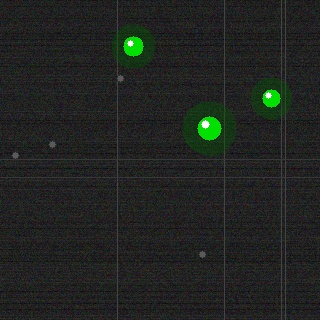green_normal: (195, 114, 223, 142), (121, 34, 145, 58), (260, 87, 282, 109)
